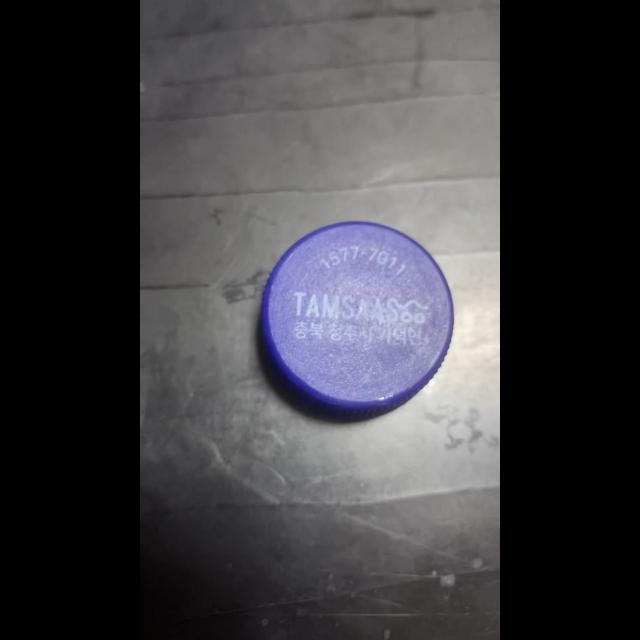plastic_bottle_cap: (256, 207, 464, 423)
